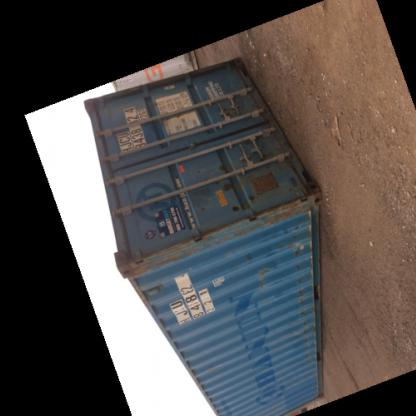Damage: (289, 244, 315, 368), (118, 242, 194, 268), (250, 193, 304, 229), (196, 219, 240, 249), (250, 257, 276, 294), (254, 117, 278, 135), (208, 160, 229, 176), (218, 182, 240, 194), (228, 202, 244, 216)
